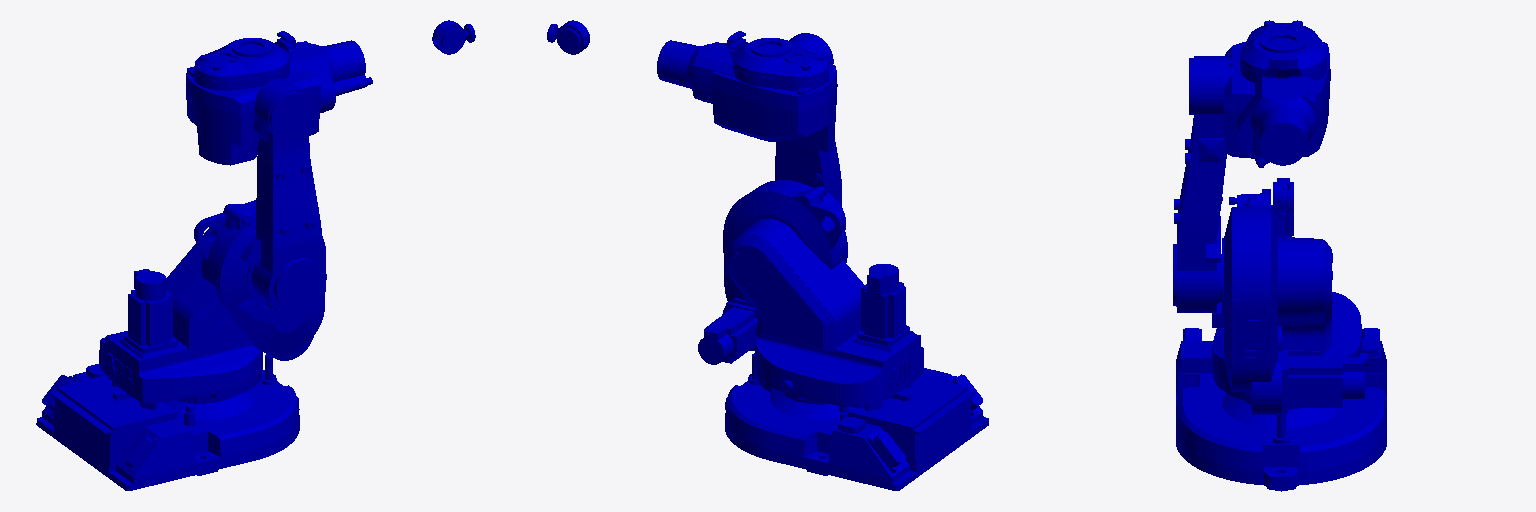
robot.urdf — example_robot:
<robot name="example_robot">
	<link name="base">
		<visual>
			<material name="blue">
				<color rgba="0 0 .8 1"/>
			</material>
			<geometry>
				<origin xyz="0 0 0" rpy="0 0 0"/>
                <mesh filename="IRB1600/base.stl"/>			
            </geometry>
		</visual>
	</link>
	<link name="base_x_axis">
		<visual>
			<material name="red">
				<color rgba="1 0 0 1"/>
			</material>
			<geometry>
				<origin xyz="0 0 0" rpy="0 0 0"/>
				<cylinder length="0.0" radius="0.0"/>
			</geometry>
		</visual>
	</link>
	<joint name="q0_x" type="fixed">
		<origin xyz="0 0 0" rpy="0 1.571 0"/>
		<parent link="base"/>
		<child link="base_x_axis"/>
	</joint>
	<link name="link1">
		<visual>
            <origin xyz="0 0 0" rpy="0 0 0"/>
			<material name="blue">
				<color rgba="0 0 .8 1"/>
			</material>
			<geometry>
                <mesh filename="IRB1600/link1.stl"/>			
            </geometry>
		</visual>
    </link>
	<link name="link1_x_axis">
		<visual>
			<origin xyz="0 0 0.25" rpy="0 0 0"/>
			<material name="red"/>
			<geometry>
				<cylinder length="0.5" radius="0.05"/>
			</geometry>
		</visual>
	</link>
	<joint name="q1" type="revolute">
		<origin xyz="0 0 0" rpy="0 0 0"/>
		<parent link="base"/>
		<child link="link1"/>
		<axis xyz="0 0 1"/>
        <limit lower="-1.57" upper="1.57" effort="10" velocity="3"/>
	</joint>
	<joint name="q1_passive" type="fixed">
		<origin xyz="150 0 486.5" rpy="-1.5707963267948966 0 0"/>
		<parent link="link1"/>
		<child link="link1_passive"/>
	</joint>
	<link name="link1_passive">
		<visual>
			<origin xyz="0 0 0.25" rpy="0 0 0"/>
			<material name="blue"/>
			<geometry>
				<cylinder length="0.5" radius="0.05"/>
			</geometry>
		</visual>
	</link>
	<joint name="q1_x" type="fixed">
		<origin xyz="0 0 0" rpy="0 1.571 0"/>
		<parent link="link1_passive"/>
		<child link="link1_x_axis"/>
	</joint>
	<link name="link2">
		<visual>
            <origin xyz="0 0 0" rpy="1.571 0 1.571"/>
			<material name="blue">
				<color rgba="0 0 .8 1"/>
			</material>
			<geometry>
                <mesh filename="IRB1600/link2.stl"/>			
            </geometry>
		</visual>
    </link>
	<link name="link2_x_axis">
		<visual>
			<origin xyz="0 0 0.25" rpy="0 0 0"/>
			<material name="red"/>
			<geometry>
				<cylinder length="0.5" radius="0.05"/>
			</geometry>
		</visual>
	</link>
	<joint name="q2" type="revolute">
		<origin xyz="0 0 0" rpy="0 0 -1.571"/>
		<parent link="link1_passive"/>
		<child link="link2"/>
		<axis xyz="0 0 1"/>
        <limit lower="-1.57" upper="1.57" effort="10" velocity="3"/>
	</joint>
	<joint name="q2_passive" type="fixed">
		<origin xyz="475 0 0" rpy="0 0 0"/>
		<parent link="link2"/>
		<child link="link2_passive"/>
	</joint>
	<link name="link2_passive">
		<visual>
			<origin xyz="0 0 0.25" rpy="0 0 0"/>
			<material name="blue"/>
			<geometry>
				<cylinder length="0.5" radius="0.05"/>
			</geometry>
		</visual>
	</link>
	<joint name="q2_x" type="fixed">
		<origin xyz="0 0 0" rpy="0 1.571 0"/>
		<parent link="link2_passive"/>
		<child link="link2_x_axis"/>
	</joint>
	<link name="link3">
           <visual>
            <origin xyz="0 0 0" rpy="0 0 1.571"/>
			<material name="blue">
				<color rgba="0 0 .8 1"/>
			</material>
			<geometry>
                <mesh filename="IRB1600/link3.stl"/>			
            </geometry>
		</visual>
    </link>
	<link name="link3_x_axis">
		<visual>
			<origin xyz="0 0 0.25" rpy="0 0 0"/>
			<material name="red"/>
			<geometry>
				<cylinder length="0.5" radius="0.05"/>
			</geometry>
		</visual>
	</link>
	<joint name="q3" type="revolute">
		<origin xyz="0 0 0" rpy="0 0 0"/>
		<parent link="link2_passive"/>
		<child link="link3"/>
		<axis xyz="0 0 1"/>
        <limit lower="-1.57" upper="1.57" effort="10" velocity="3"/>
	</joint>
	<joint name="q3_passive" type="fixed">
		<origin xyz="0 0 0" rpy="-1.5707963267948966 0 0"/>
		<parent link="link3"/>
		<child link="link3_passive"/>
	</joint>
	<link name="link3_passive">
		<visual>
			<origin xyz="0 0 0.25" rpy="0 0 0"/>
			<material name="blue"/>
			<geometry>
				<cylinder length="0.5" radius="0.05"/>
			</geometry>
		</visual>
	</link>
	<joint name="q3_x" type="fixed">
		<origin xyz="0 0 0" rpy="0 1.571 0"/>
		<parent link="link3_passive"/>
		<child link="link3_x_axis"/>
	</joint>
	<link name="link4">
           <visual>
            <origin xyz="0 0 0" rpy="0 -1.571 0"/>
			<material name="blue">
				<color rgba="0 0 .8 1"/>
			</material>
			<geometry>
                <mesh filename="IRB1600/link4.stl"/>			
            </geometry>
		</visual>
    </link>
	<link name="link4_x_axis">
		<visual>
			<origin xyz="0 0 0.25" rpy="0 0 0"/>
			<material name="red"/>
			<geometry>
				<cylinder length="0.5" radius="0.05"/>
			</geometry>
		</visual>
	</link>
	<joint name="q4" type="revolute">
		<origin xyz="0 0 600" rpy="0 0 0"/>
		<parent link="link3_passive"/>
		<child link="link4"/>
		<axis xyz="0 0 1"/>
        <limit lower="-1.57" upper="1.57" effort="10" velocity="3"/>
	</joint>
	<joint name="q4_passive" type="fixed">
		<origin xyz="0 0 0" rpy="1.5707963267948966 0 0"/>
		<parent link="link4"/>
		<child link="link4_passive"/>
	</joint>
	<link name="link4_passive">
		<visual>
			<origin xyz="0 0 0.25" rpy="0 0 0"/>
			<material name="blue"/>
			<geometry>
				<cylinder length="0.5" radius="0.05"/>
			</geometry>
		</visual>
	</link>
	<joint name="q4_x" type="fixed">
		<origin xyz="0 0 0" rpy="0 1.571 0"/>
		<parent link="link4_passive"/>
		<child link="link4_x_axis"/>
	</joint>
	<link name="link5">
           <visual>
            <origin xyz="0 0 0" rpy="-1.571 0 1.571"/>
			<material name="blue">
				<color rgba="0 0.0 .8 1"/>
			</material>
			<geometry>
                <mesh filename="IRB1600/link5.stl"/>			
            </geometry>
		</visual>
    </link>
	<link name="link5_x_axis">
		<visual>
			<origin xyz="0 0 0.25" rpy="0 0 0"/>
			<material name="red"/>
			<geometry>
				<cylinder length="0.5" radius="0.05"/>
			</geometry>
		</visual>
	</link>
	<joint name="q5" type="revolute">
		<origin xyz="0 0 0" rpy="0 0 0"/>
		<parent link="link4_passive"/>
		<child link="link5"/>
		<axis xyz="0 0 1"/>
        <limit lower="-1.57" upper="1.57" effort="10" velocity="3"/>
	</joint>
	<joint name="q5_passive" type="fixed">
		<origin xyz="0 0 0" rpy="1.5707963267948966 0 0"/>
		<parent link="link5"/>
		<child link="link5_passive"/>
	</joint>
	<link name="link5_passive">
		<visual>
			<origin xyz="0 0 0.25" rpy="0 0 0"/>
			<material name="blue"/>
			<geometry>
				<cylinder length="0.5" radius="0.05"/>
			</geometry>
		</visual>
	</link>
	<joint name="q5_x" type="fixed">
		<origin xyz="0 0 0" rpy="0 1.571 0"/>
		<parent link="link5_passive"/>
		<child link="link5_x_axis"/>
	</joint>
	<link name="link6">
           <visual>
            <origin xyz="0 0 0" rpy="0 1.5710 0"/>
			<material name="blue">
				<color rgba="0 0 .8 1"/>
			</material>
			<geometry>
                <mesh filename="IRB1600/link6.stl"/>			
            </geometry>
		</visual>
    </link>
	<link name="link6_x_axis">
		<visual>
			<origin xyz="0 0 0.25" rpy="0 0 0"/>
			<material name="red"/>
			<geometry>
				<cylinder length="0.5" radius="0.05"/>
			</geometry>
		</visual>
	</link>
	<joint name="q6" type="revolute">
		<origin xyz="0 0 -65" rpy="0 0 0"/>
		<parent link="link5_passive"/>
		<child link="link6"/>
		<axis xyz="0 0 1"/>
        <limit lower="-1.57" upper="1.57" effort="10" velocity="3"/>
	</joint>
	<joint name="q6_passive" type="fixed">
		<origin xyz="0 0 0" rpy="0 0 0"/>
		<parent link="link6"/>
		<child link="link6_passive"/>
	</joint>
	<link name="link6_passive">
		<visual>
			<origin xyz="0 0 0.25" rpy="0 0 0"/>
			<material name="blue"/>
			<geometry>
				<cylinder length="0.5" radius="0.05"/>
			</geometry>
		</visual>
	</link>
	<joint name="q6_x" type="fixed">
		<origin xyz="0 0 0" rpy="0 1.571 0"/>
		<parent link="link6_passive"/>
		<child link="link6_x_axis"/>
	</joint>
</robot>

--- Render facts (derived) ---
The picture shows the robot from 3 angles, left to right: view 1: azimuth 30°, elevation 25°; view 2: azimuth 150°, elevation 25°; view 3: azimuth 270°, elevation 25°; orthographic projection.
Robot: example_robot — 20 links, 19 joints (6 revolute, 13 fixed); root link base; default pose: every joint at zero.
Visible links, largest first — view 1: link1, base, link2, link3, link5; view 2: link1, base, link3, link2, link5; view 3: link1, base, link3, link2.
Boxes of the visible links, box(x1,y1,x2,y2) form: link1: box(99, 200, 325, 409); base: box(36, 354, 299, 490); link2: box(240, 79, 326, 314); link3: box(186, 31, 372, 165); link5: box(432, 20, 465, 54); link1: box(698, 180, 923, 412); base: box(725, 353, 988, 490); link3: box(657, 31, 837, 152); link2: box(775, 33, 845, 229); link5: box(556, 20, 589, 54); link1: box(1212, 189, 1367, 414); base: box(1176, 328, 1386, 491); link3: box(1224, 20, 1330, 167); link2: box(1173, 56, 1232, 312).
Bounding box of the posed robot: 1198 × 490 × 1083 m (x, y, z).
Meshes: 7 distinct files referenced, 6 mesh visuals loaded (6 binary STL); not drawn: 1 (reference not matched to a file when rendering).